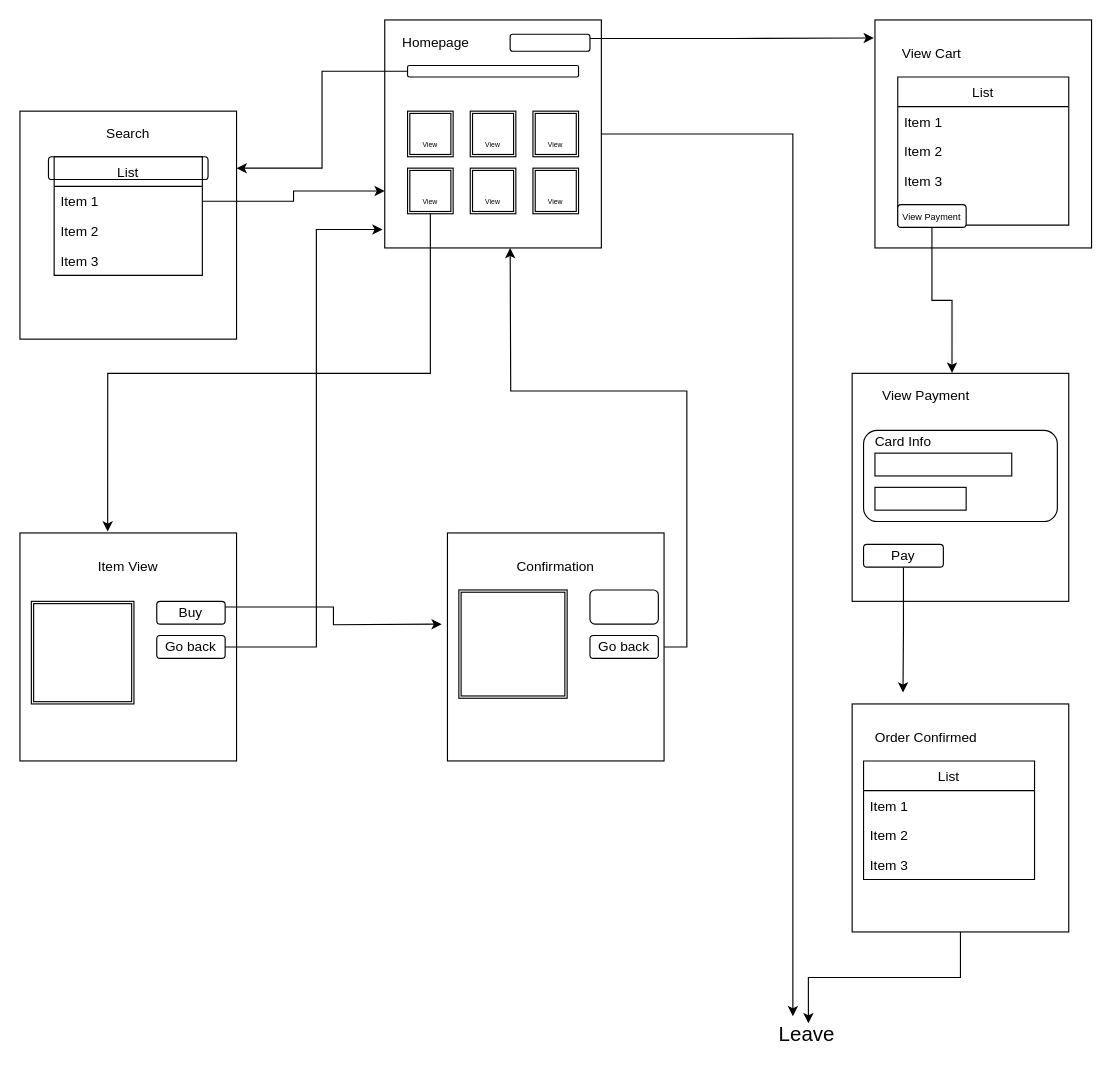
Image size: 1112x1067. Some labels were removed from this diagram. Each missing label, with the centre of its shape:
"Added to the cart" belongs at point 623,606.
"Checkout" belongs at point 549,42.
